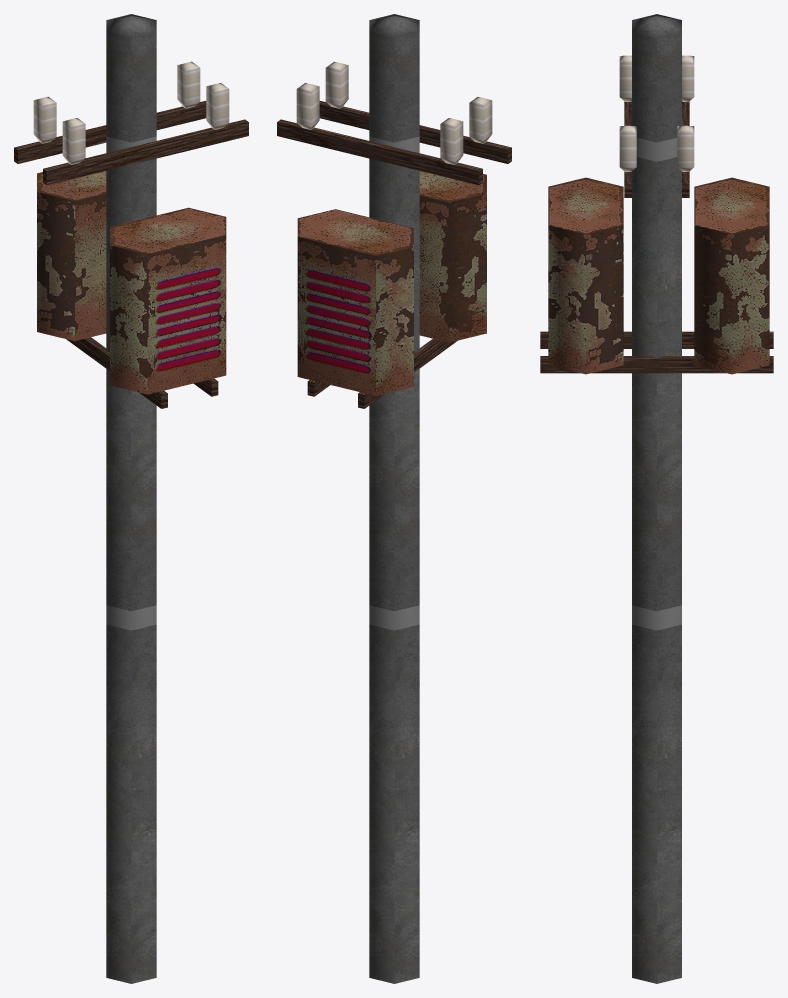
The model's file is electric-post02-art.glb.
The picture shows the model from 3 angles, left to right: view 1: azimuth 30°, elevation 25°; view 2: azimuth 150°, elevation 25°; view 3: azimuth 270°, elevation 25°; orthographic projection.
Parts seen in each view (by area): view 1: ElectricPost02_Art; view 2: ElectricPost02_Art; view 3: ElectricPost02_Art.
Boxes of the visible parts, x1,y1,x2,y2 form: ElectricPost02_Art: [14, 14, 248, 983]; ElectricPost02_Art: [277, 14, 511, 983]; ElectricPost02_Art: [540, 14, 773, 983].
Size of the model in its own units: 2.31 by 10.43 by 2.31.
1 material, 1 textured.
